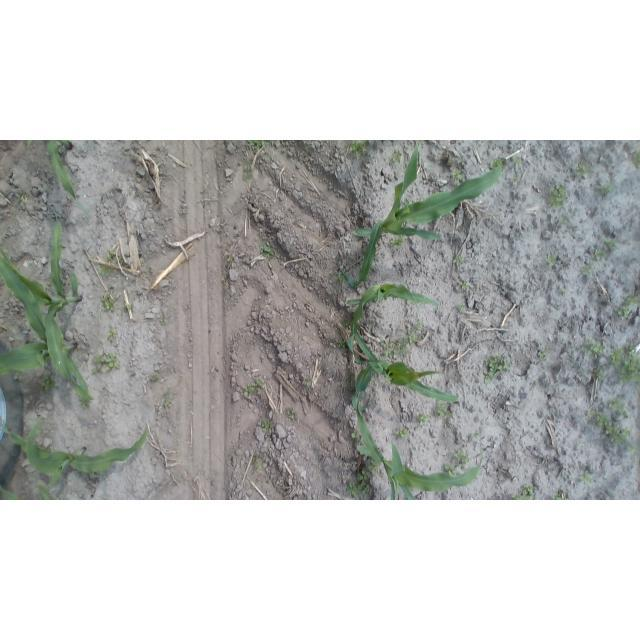Maize: (344, 143, 504, 288), (4, 212, 90, 402), (1, 252, 94, 396), (1, 417, 150, 495), (350, 415, 486, 498), (347, 329, 459, 408), (338, 281, 442, 346), (37, 140, 91, 220), (1, 479, 64, 500)
Weeds: (591, 411, 630, 446), (344, 462, 378, 499), (610, 342, 638, 383), (483, 353, 511, 383), (90, 353, 122, 376), (616, 292, 638, 319), (380, 339, 406, 360), (548, 183, 568, 209), (243, 377, 265, 399), (581, 336, 604, 356), (510, 483, 536, 500), (258, 240, 278, 261), (608, 398, 630, 416), (435, 403, 454, 422), (403, 327, 421, 346), (40, 372, 57, 392), (250, 455, 267, 473), (349, 140, 368, 156), (603, 236, 619, 254), (596, 182, 615, 197), (101, 293, 116, 312), (389, 236, 405, 253), (454, 450, 469, 467), (260, 418, 275, 434), (574, 163, 591, 177), (394, 427, 409, 442), (581, 261, 594, 277), (489, 158, 505, 171), (243, 162, 253, 182), (248, 140, 267, 150), (163, 388, 173, 407), (286, 408, 299, 422), (593, 248, 607, 261), (98, 265, 113, 277), (537, 345, 549, 360), (16, 190, 29, 203), (445, 463, 458, 476), (417, 414, 430, 427), (392, 149, 403, 164), (107, 326, 117, 342), (551, 489, 567, 499), (594, 368, 606, 381), (546, 252, 557, 266), (632, 148, 639, 169), (452, 254, 464, 266), (452, 168, 463, 181), (458, 279, 470, 290), (581, 472, 592, 484), (78, 398, 90, 409), (148, 373, 161, 383), (335, 270, 345, 282), (106, 253, 119, 262), (303, 379, 314, 389), (512, 156, 522, 167), (627, 444, 638, 454), (350, 429, 359, 441), (160, 315, 169, 327), (337, 338, 347, 348), (457, 302, 466, 312), (559, 216, 569, 225), (225, 254, 234, 263), (220, 274, 228, 282), (124, 302, 132, 310), (457, 156, 464, 165), (513, 175, 520, 183), (560, 289, 567, 296)
